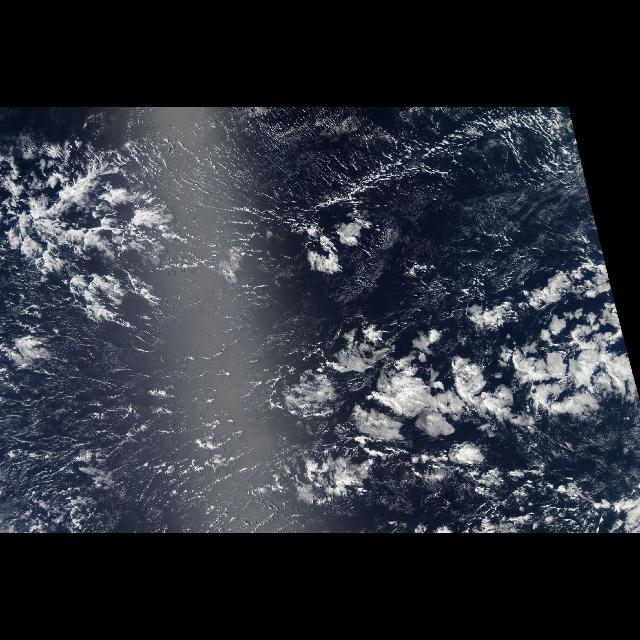Flower: (264, 268, 638, 502)
Sugar: (153, 107, 579, 260), (3, 331, 295, 534)
